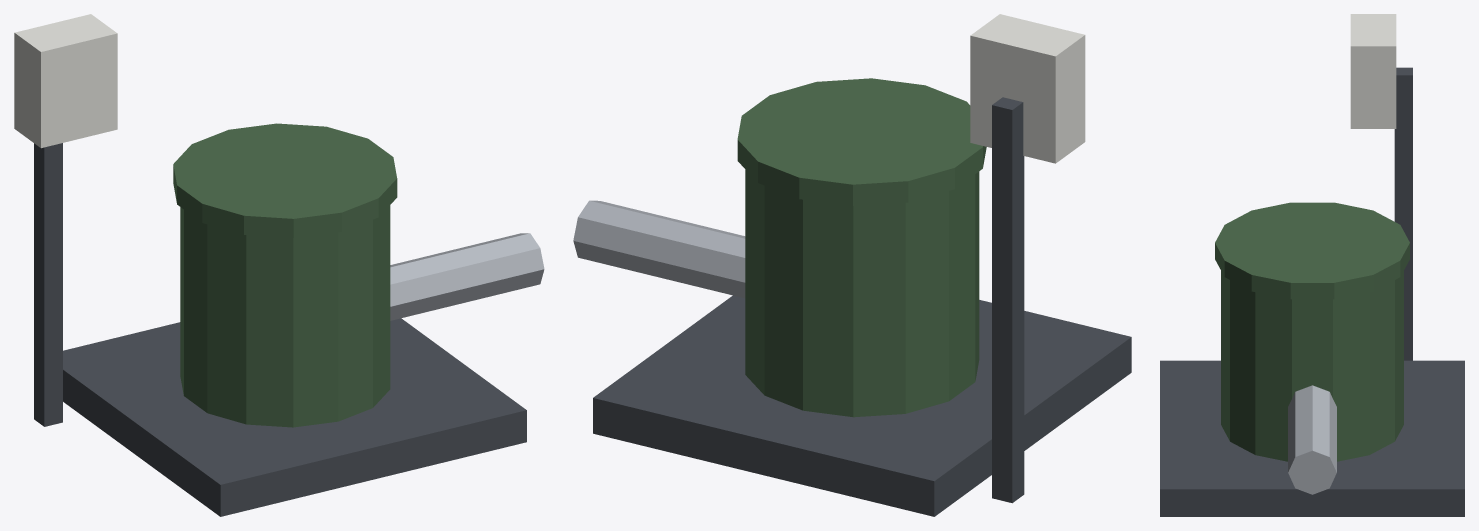
File: sewage pump.glb
3 views of the same model, side by side, from view 1: azimuth 30°, elevation 25°; view 2: azimuth 150°, elevation 25°; view 3: azimuth 270°, elevation 25° (orthographic). The views are drawn at different scales.
Parts seen in each view (by area): view 1: sewage pump; view 2: sewage pump; view 3: sewage pump.
Boxes of the visible parts, left/top/right/bottom form: sewage pump: left=14, top=14, right=544, bottom=516; sewage pump: left=573, top=14, right=1131, bottom=516; sewage pump: left=1160, top=14, right=1464, bottom=516.
Bounding box in the file's own units: 1.53 × 1.25 × 1.
